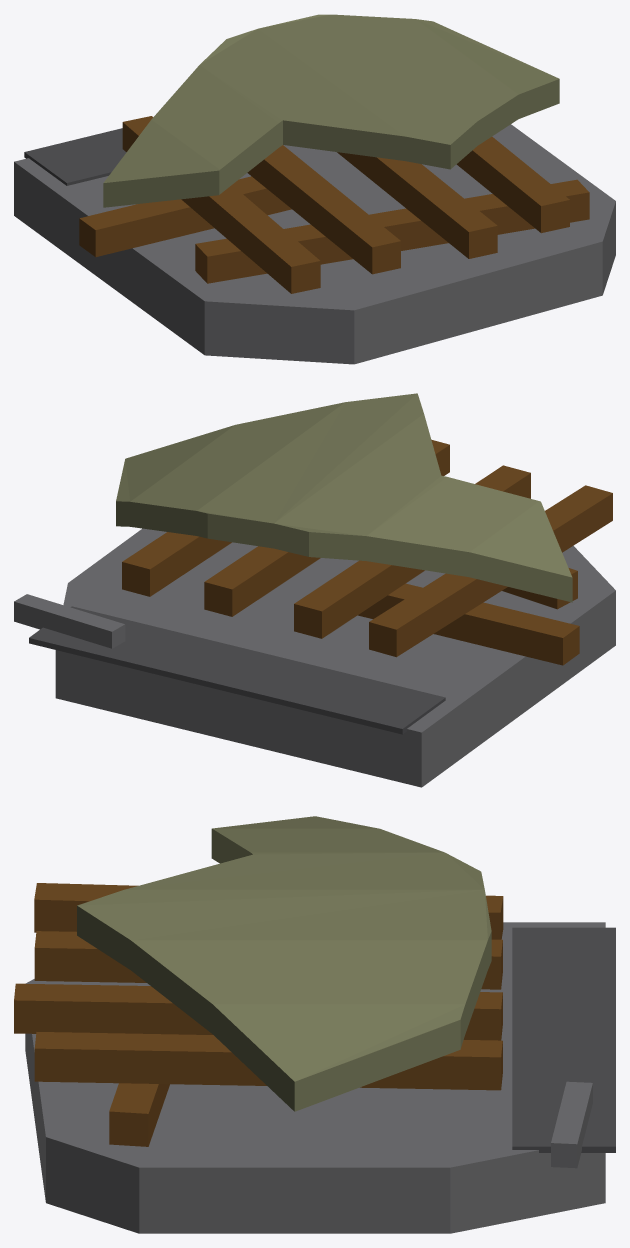
Rendered from ship_chunk_3.obj.
3 views of the same model, one above another, from view 1: azimuth 30°, elevation 25°; view 2: azimuth 150°, elevation 25°; view 3: azimuth 270°, elevation 25° (orthographic). The views are drawn at different scales.
Parts seen in each view (by area): view 1: ship_chunk_3_0, ship_chunk_3_9, ship_chunk_3_6, ship_chunk_3_4, ship_chunk_3_5, ship_chunk_3_7, ship_chunk_3_3, ship_chunk_3_8, ship_chunk_3_1; view 2: ship_chunk_3_0, ship_chunk_3_9, ship_chunk_3_1, ship_chunk_3_5, ship_chunk_3_6, ship_chunk_3_3, ship_chunk_3_7, ship_chunk_3_8, ship_chunk_3_2, ship_chunk_3_4; view 3: ship_chunk_3_9, ship_chunk_3_0, ship_chunk_3_1, ship_chunk_3_8, ship_chunk_3_7, ship_chunk_3_6, ship_chunk_3_5, ship_chunk_3_4, ship_chunk_3_2.
Part boxes in pixels (x1=…): ship_chunk_3_0: x1=14, y1=124, x2=615, y2=364; ship_chunk_3_9: x1=103, y1=14, x2=559, y2=207; ship_chunk_3_6: x1=247, y1=145, x2=400, y2=274; ship_chunk_3_4: x1=195, y1=179, x2=589, y2=283; ship_chunk_3_5: x1=122, y1=116, x2=320, y2=293; ship_chunk_3_7: x1=337, y1=152, x2=497, y2=258; ship_chunk_3_3: x1=79, y1=176, x2=291, y2=257; ship_chunk_3_8: x1=456, y1=136, x2=569, y2=233; ship_chunk_3_1: x1=24, y1=128, x2=126, y2=185; ship_chunk_3_0: x1=55, y1=528, x2=615, y2=787; ship_chunk_3_9: x1=116, y1=393, x2=572, y2=602; ship_chunk_3_1: x1=29, y1=606, x2=445, y2=734; ship_chunk_3_5: x1=369, y1=485, x2=612, y2=657; ship_chunk_3_6: x1=294, y1=465, x2=530, y2=638; ship_chunk_3_3: x1=358, y1=583, x2=579, y2=665; ship_chunk_3_7: x1=204, y1=439, x2=449, y2=616; ship_chunk_3_8: x1=122, y1=532, x2=231, y2=596; ship_chunk_3_2: x1=14, y1=594, x2=125, y2=648; ship_chunk_3_4: x1=502, y1=568, x2=577, y2=609; ship_chunk_3_9: x1=77, y1=816, x2=491, y2=1111; ship_chunk_3_0: x1=25, y1=922, x2=605, y2=1233; ship_chunk_3_1: x1=512, y1=927, x2=615, y2=1152; ship_chunk_3_8: x1=34, y1=1032, x2=502, y2=1090; ship_chunk_3_7: x1=14, y1=983, x2=502, y2=1040; ship_chunk_3_6: x1=34, y1=931, x2=502, y2=989; ship_chunk_3_5: x1=34, y1=883, x2=503, y2=939; ship_chunk_3_4: x1=109, y1=1083, x2=169, y2=1146; ship_chunk_3_2: x1=551, y1=1081, x2=592, y2=1168.
Bounding box in the file's own units: 1.94 × 0.7149 × 1.82.
